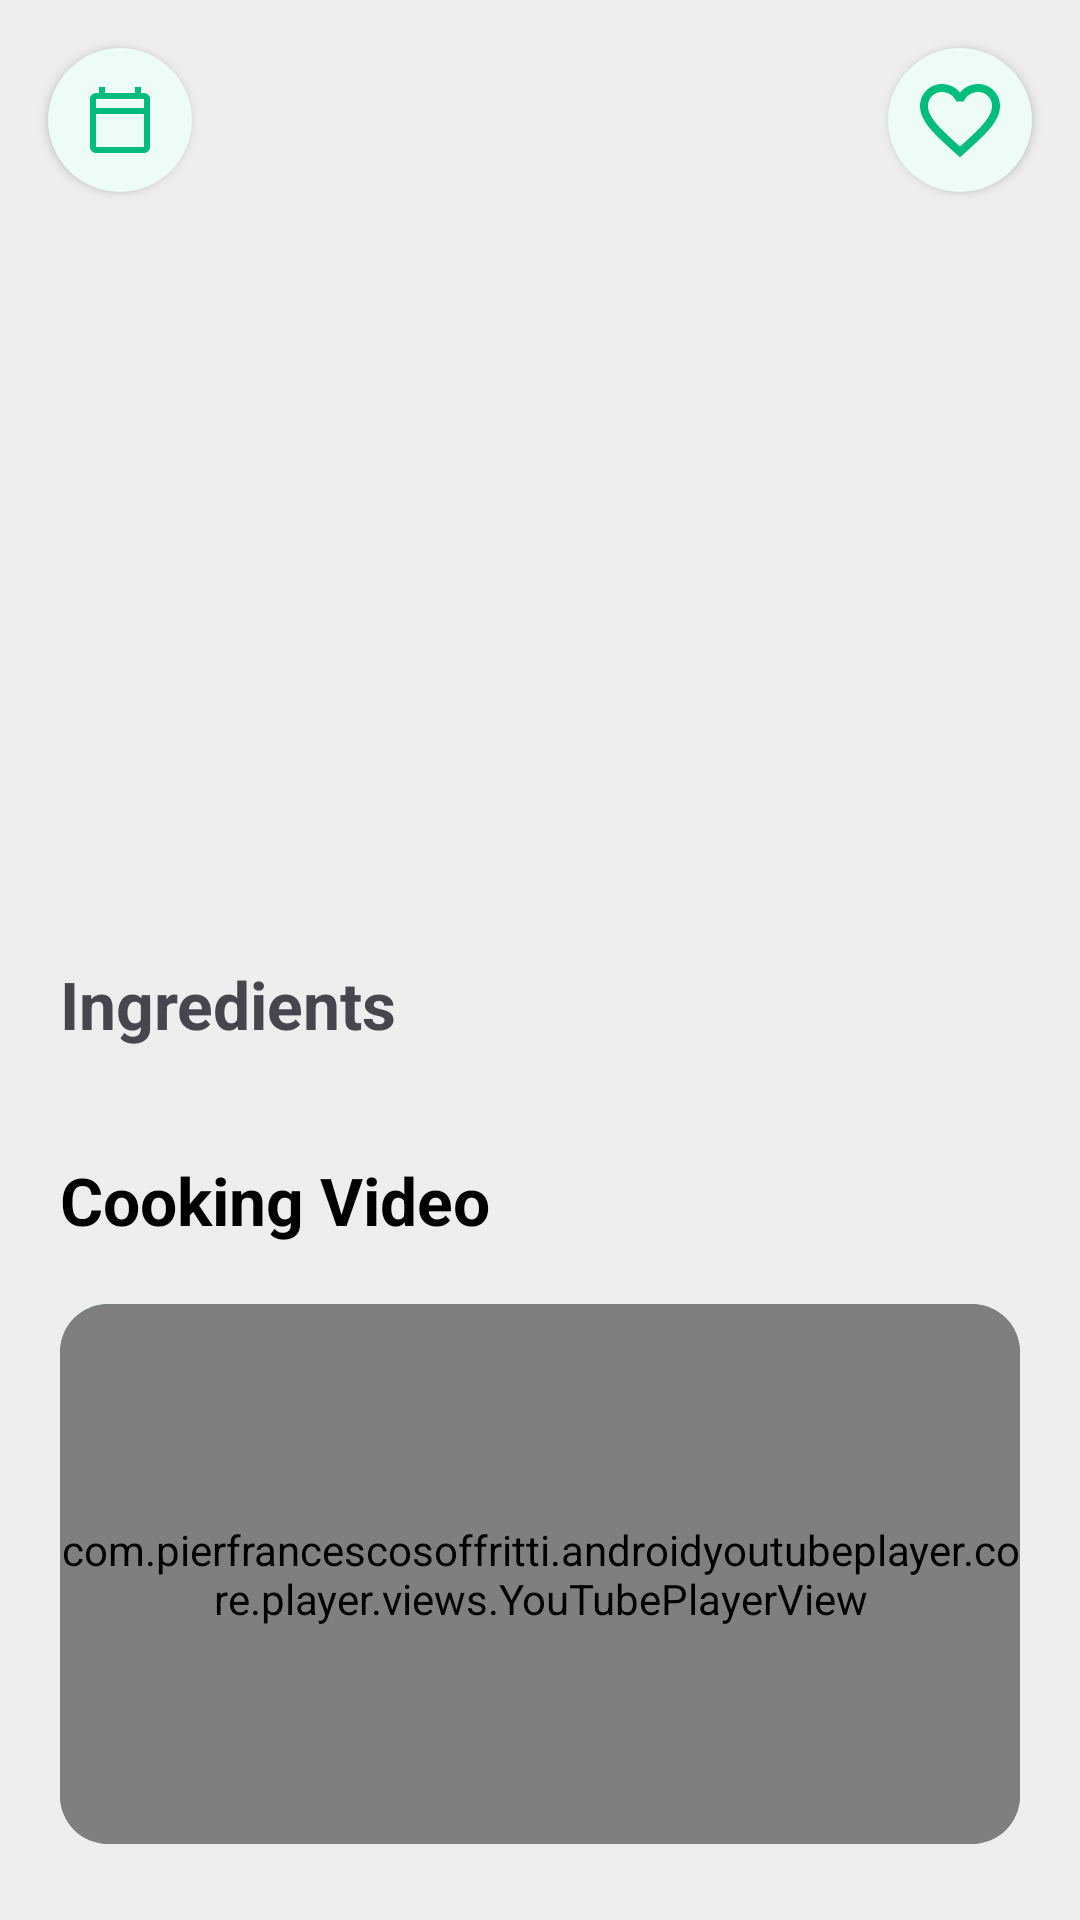

Screen size 1080×1920. Icon name, then its box in pixels as (x1, y1, x2, y2):
calendar: (48, 48, 192, 192)
fav: (888, 48, 1032, 192)
